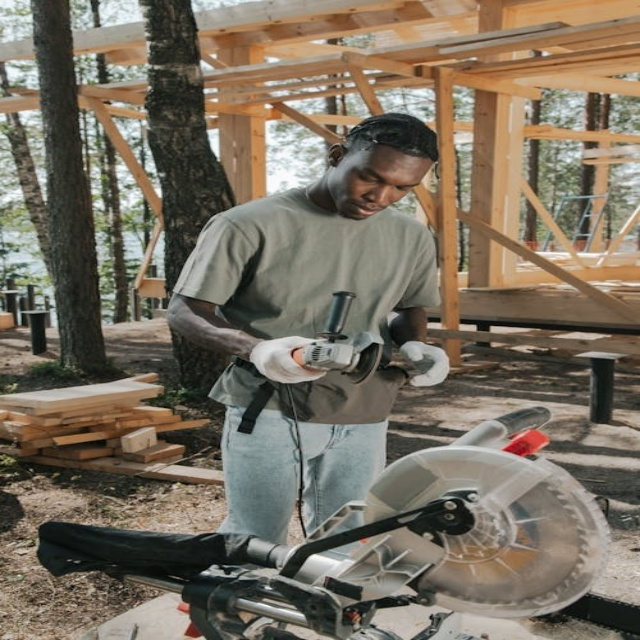Guantes: (249, 337, 335, 385), (398, 341, 450, 386)
Sin_gafas: (344, 160, 421, 195)
Sin_mascara: (340, 198, 387, 219)
